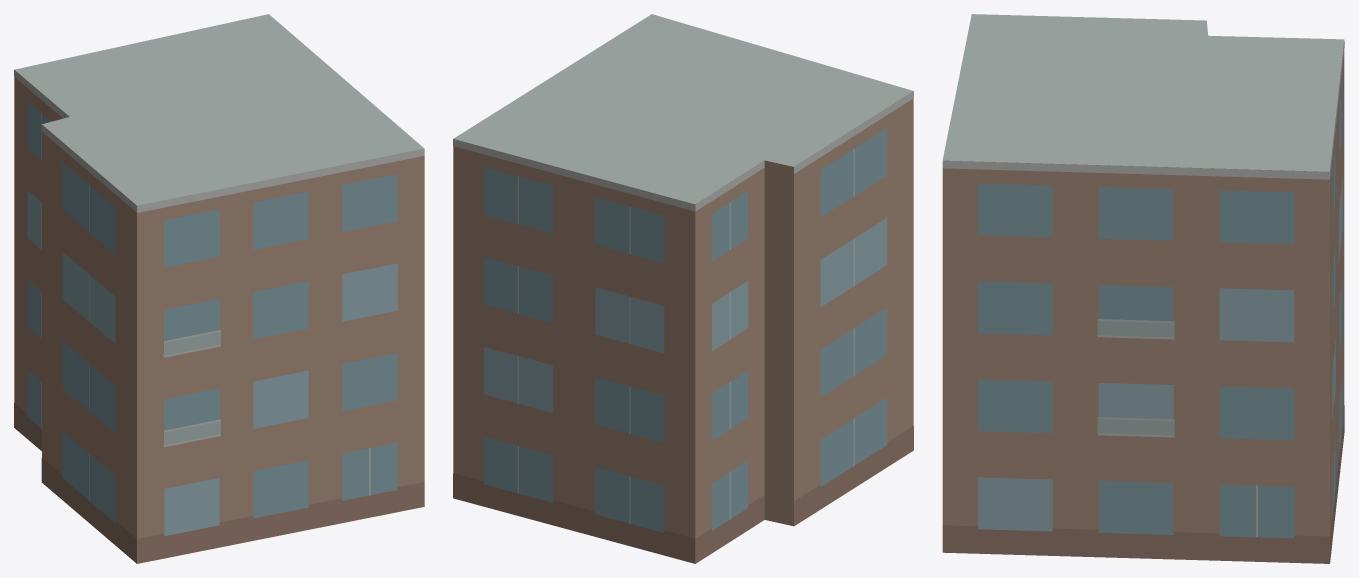
File: survey-upis-32603311.glb
The picture shows the model from 3 angles, left to right: view 1: azimuth 30°, elevation 25°; view 2: azimuth 150°, elevation 25°; view 3: azimuth 270°, elevation 25°; orthographic projection. The views are drawn at different scales.
Visible parts, largest first — view 1: survey-upis-32603311.tmp; view 2: survey-upis-32603311.tmp; view 3: survey-upis-32603311.tmp.
Boxes of the visible parts, <box> form: survey-upis-32603311.tmp: <box>14,14,424,563</box>; survey-upis-32603311.tmp: <box>453,14,913,563</box>; survey-upis-32603311.tmp: <box>942,14,1344,563</box>.
Size of the model in its own units: 10.54 by 12.2 by 11.35.
